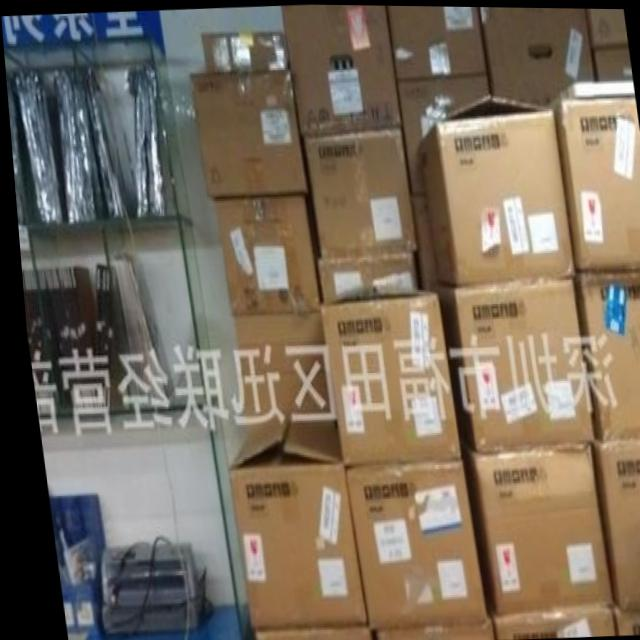box: (417, 93, 572, 283), (220, 414, 356, 630), (434, 276, 587, 449), (315, 286, 454, 465), (336, 458, 478, 629), (470, 444, 602, 613), (280, 4, 400, 135), (551, 95, 640, 269), (188, 71, 305, 199), (301, 129, 412, 256), (569, 271, 640, 440), (211, 197, 314, 313), (396, 74, 490, 195), (230, 312, 327, 424), (481, 6, 595, 101), (587, 437, 640, 611), (387, 5, 486, 79), (201, 33, 289, 72), (588, 7, 628, 46)
